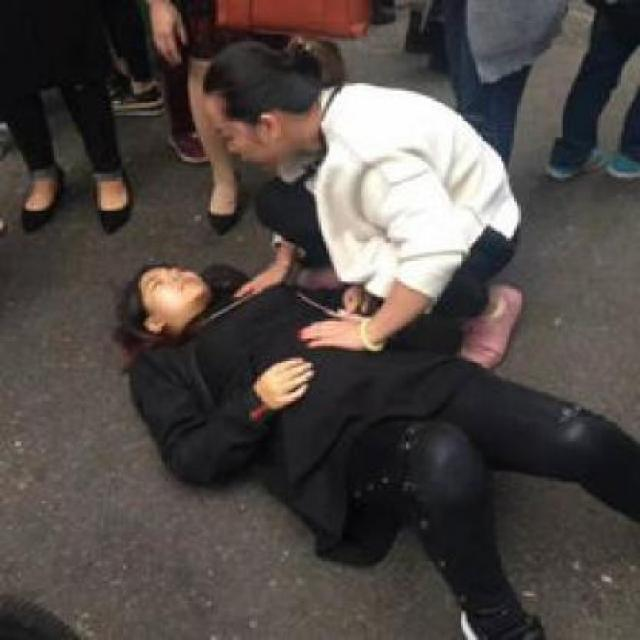fall: (100, 240, 622, 638)
